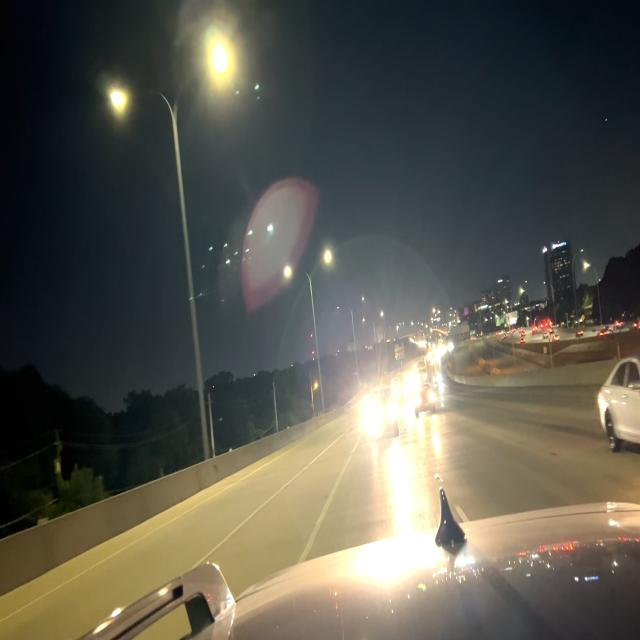back-of-sign: (451, 319, 473, 354)
